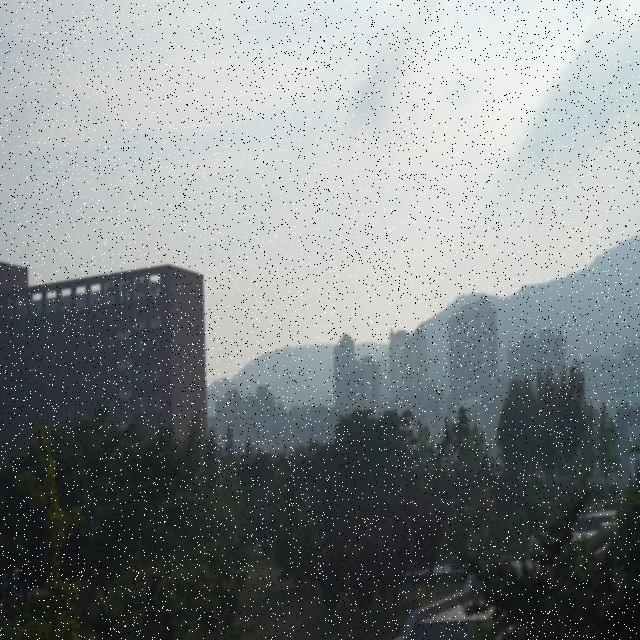UAV: (25, 367, 40, 379)
